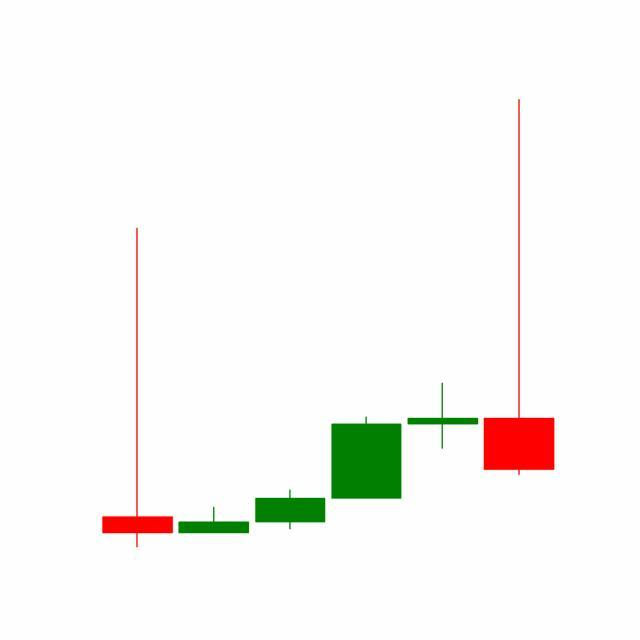Spinning Top: (404, 382, 482, 450)
